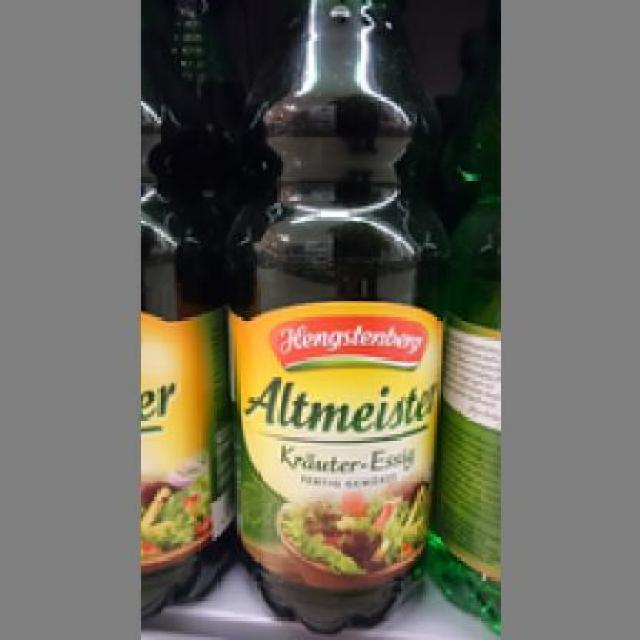Vinegar: (227, 0, 435, 632)
